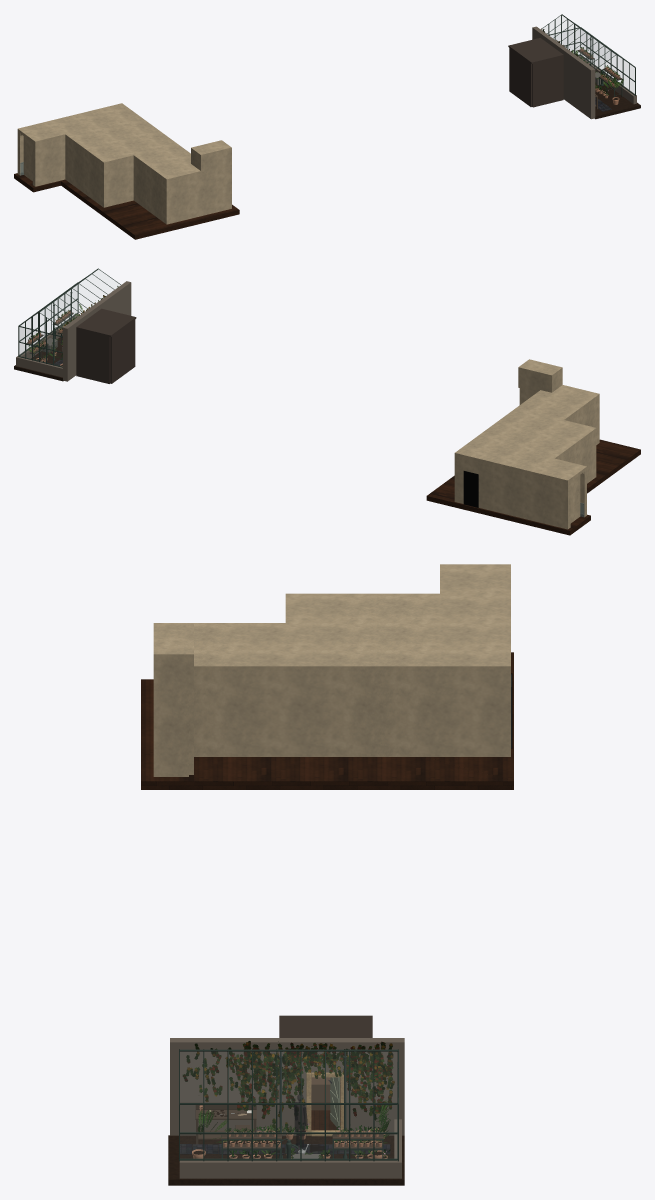
The model's file is ded_corridor.glb.
3 renders of one model, top to bottom at view 1: azimuth 30°, elevation 25°; view 2: azimuth 150°, elevation 25°; view 3: azimuth 270°, elevation 25°, orthographic. The views are drawn at different scales.
Parts seen in each view (by area): view 1: 支线外壳·墙体-col, 回廊·天花板, gh_门里的暗房-col, 支线外壳·天花板, 回廊·地坪-col, gh_铸铁框与玻璃, gh_主楼砖墙-col, 回廊·墙体-col, gh_地面-col, segB_end·端墙-col, gh_玻璃墙砖基-col; view 2: 回廊·墙体-col, 回廊·天花板, gh_门里的暗房-col, gh_铸铁框与玻璃, 支线外壳·天花板, 回廊·地坪-col, 支线外壳·墙体-col, gh_主楼砖墙-col, gh_玻璃墙砖基-col, 回廊·暗房门后挡光, gh_地面-col, segB_end·端墙-col; view 3: 回廊·墙体-col, gh_铸铁框与玻璃, 回廊·天花板, 回廊·地坪-col, gh_主楼砖墙-col, 支线外壳·天花板, gh_常春藤, 支线外壳·墙体-col, gh_玻璃墙砖基-col, gh_地面-col, gh_门里的暗房-col, gh_陶盆 (+4 smaller).
Part boxes in pixels (x1=…): 支线外壳·墙体-col: x1=65, y1=137, x2=231, y2=224; 回廊·天花板: x1=17, y1=103, x2=191, y2=169; gh_门里的暗房-col: x1=508, y1=38, x2=563, y2=107; 支线外壳·天花板: x1=65, y1=123, x2=231, y2=181; 回廊·地坪-col: x1=14, y1=173, x2=239, y2=239; gh_铸铁框与玻璃: x1=542, y1=14, x2=635, y2=95; gh_主楼砖墙-col: x1=532, y1=26, x2=595, y2=119; 回廊·墙体-col: x1=17, y1=132, x2=65, y2=186; gh_地面-col: x1=595, y1=84, x2=640, y2=119; segB_end·端墙-col: x1=23, y1=136, x2=32, y2=181; gh_玻璃墙砖基-col: x1=579, y1=56, x2=636, y2=104; 回廊·墙体-col: x1=454, y1=456, x2=586, y2=529; 回廊·天花板: x1=454, y1=390, x2=586, y2=483; gh_门里的暗房-col: x1=76, y1=308, x2=136, y2=383; gh_铸铁框与玻璃: x1=18, y1=268, x2=120, y2=367; 支线外壳·天花板: x1=507, y1=359, x2=599, y2=459; 回廊·地坪-col: x1=426, y1=439, x2=640, y2=535; 支线外壳·墙体-col: x1=518, y1=370, x2=599, y2=483; gh_主楼砖墙-col: x1=63, y1=281, x2=131, y2=381; gh_玻璃墙砖基-col: x1=16, y1=313, x2=79, y2=377; 回廊·暗房门后挡光: x1=463, y1=471, x2=478, y2=507; gh_地面-col: x1=14, y1=335, x2=63, y2=381; segB_end·端墙-col: x1=570, y1=475, x2=580, y2=523; 回廊·墙体-col: x1=194, y1=672, x2=510, y2=756; gh_铸铁框与玻璃: x1=179, y1=1049, x2=398, y2=1161; 回廊·天花板: x1=194, y1=564, x2=510, y2=672; 回廊·地坪-col: x1=141, y1=652, x2=513, y2=789; gh_主楼砖墙-col: x1=170, y1=1038, x2=404, y2=1135; 支线外壳·天花板: x1=153, y1=593, x2=439, y2=660; gh_常春藤: x1=182, y1=1041, x2=394, y2=1130; 支线外壳·墙体-col: x1=153, y1=660, x2=193, y2=776; gh_玻璃墙砖基-col: x1=179, y1=1119, x2=401, y2=1178; gh_地面-col: x1=168, y1=1135, x2=404, y2=1185; gh_门里的暗房-col: x1=279, y1=1015, x2=372, y2=1037; gh_陶盆: x1=192, y1=1128, x2=387, y2=1158.
Size of what is drawn, in the model's own units: 38.8 by 4.5 by 11.6.
58 materials, 16 textured.
